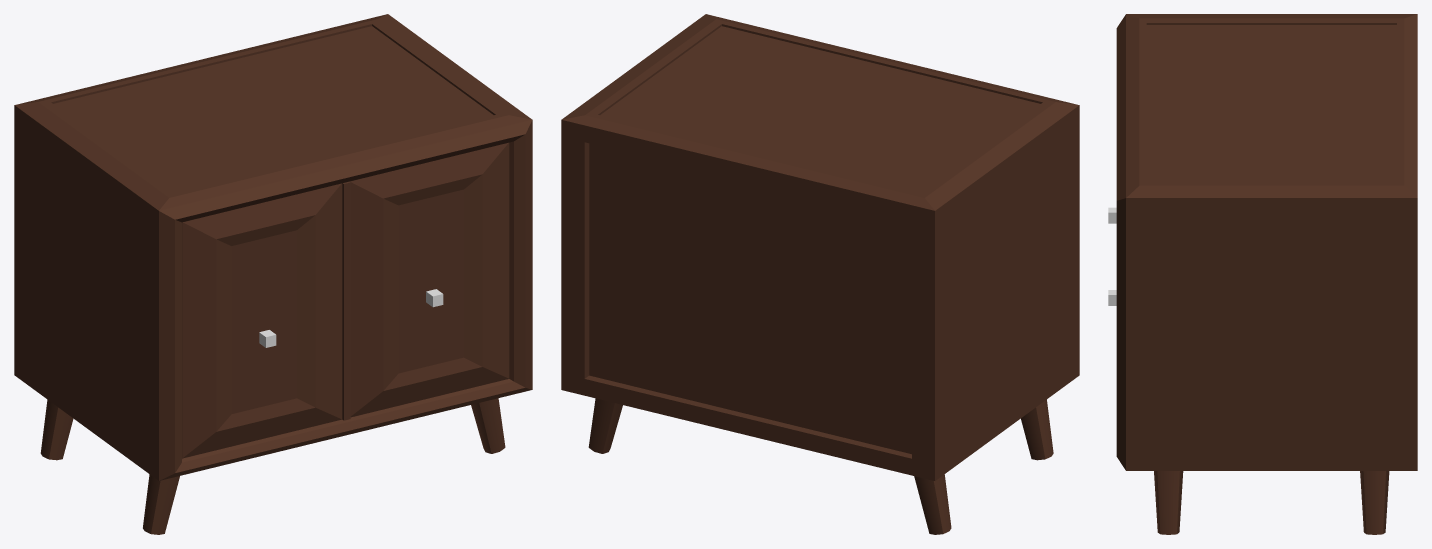
File: Wide Bedside Table.fbx
3 views of the same model, side by side, from view 1: azimuth 30°, elevation 25°; view 2: azimuth 150°, elevation 25°; view 3: azimuth 270°, elevation 25° (orthographic).
Visible parts, largest first — view 1: Tumba; view 2: Tumba; view 3: Tumba.
Boxes of the visible parts, x1,y1,x2,y2 form: Tumba: (14,14,532,534); Tumba: (561,14,1079,534); Tumba: (1108,14,1417,534).
Size of the model in its own units: 184 by 162 by 131.
